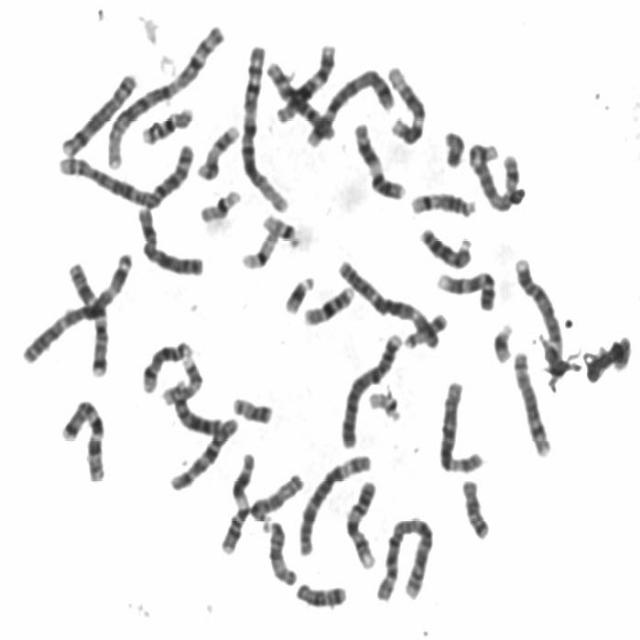A1: (106, 24, 226, 172), (237, 43, 289, 213)
A2: (59, 143, 196, 211), (373, 517, 435, 601)
A3: (21, 252, 135, 362), (337, 260, 442, 352)
B4: (340, 332, 402, 453), (514, 255, 565, 378)
B5: (304, 68, 395, 148), (468, 141, 519, 213)
C10: (265, 60, 337, 142), (168, 416, 239, 492)
C11: (352, 121, 408, 201), (218, 452, 256, 554)
C12: (276, 42, 338, 126), (386, 66, 427, 146)
C6: (296, 453, 374, 558), (439, 382, 485, 476)
C7: (66, 262, 113, 379), (59, 394, 112, 484)
C8: (61, 71, 138, 158), (511, 351, 554, 458)
C9: (344, 480, 382, 569), (435, 268, 497, 311)
D13: (172, 379, 224, 438), (419, 226, 474, 270)
D14: (140, 340, 193, 394), (411, 188, 477, 218)
D15: (249, 474, 306, 536), (261, 519, 298, 587)
E16: (303, 286, 355, 328), (142, 105, 194, 146)
E17: (197, 124, 240, 183), (161, 354, 203, 406)
E18: (460, 480, 490, 541), (294, 582, 348, 608)
F19: (198, 188, 242, 226), (240, 232, 279, 270)
F20: (403, 313, 449, 352), (230, 396, 274, 425)
G21: (283, 274, 316, 316), (491, 322, 516, 366)
G22: (262, 212, 301, 250), (367, 389, 402, 423)
X: (136, 206, 204, 277)
Y: (442, 130, 466, 171)
